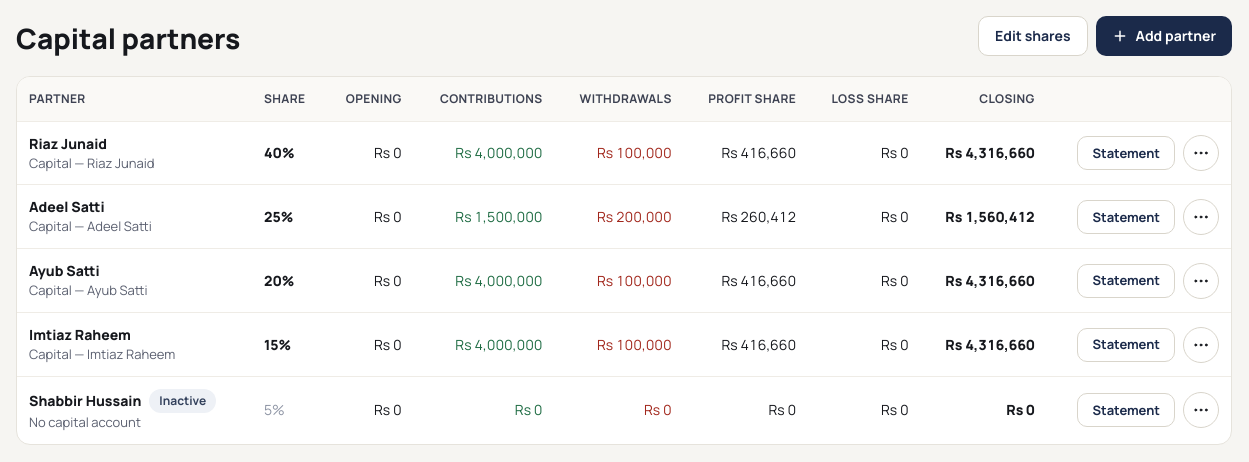
Capital partners: the list › has a Statement button and a ⋯ menu with Add transaction and Edit partner on each row
Expected: the button with aria-label "Statement for Riaz Junaid" is shown, 1078,136 -> 1175,170
Click the button named "More for Riaz Junaid".
click(1201, 153)  # box 1183,135 -> 1219,171
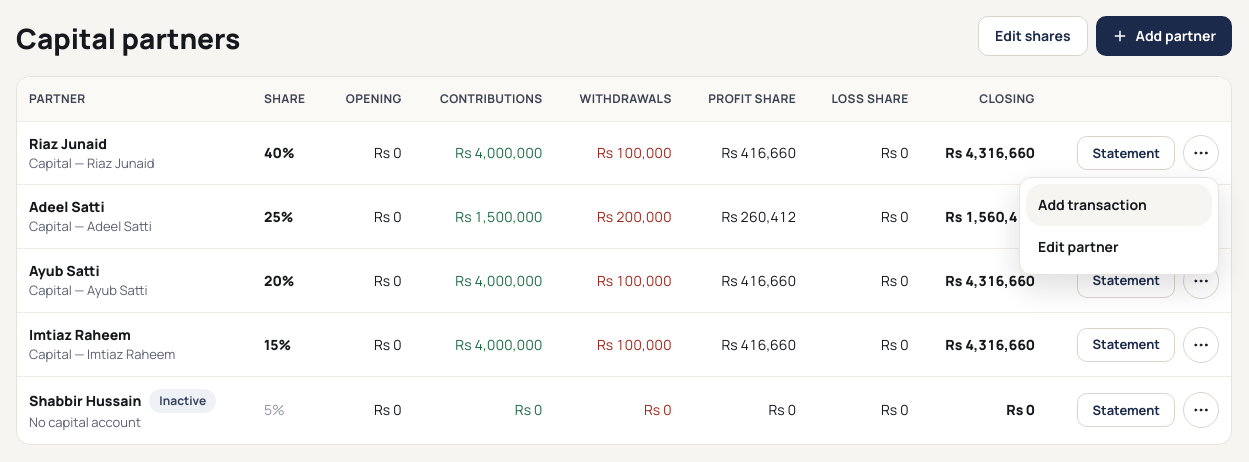
Expected: the menu items read "Add transaction", "Edit partner", in this order, 1026,184 -> 1212,226; 1026,226 -> 1212,268
Expected: the menu item "Add transaction" is enabled, 1026,184 -> 1212,226
